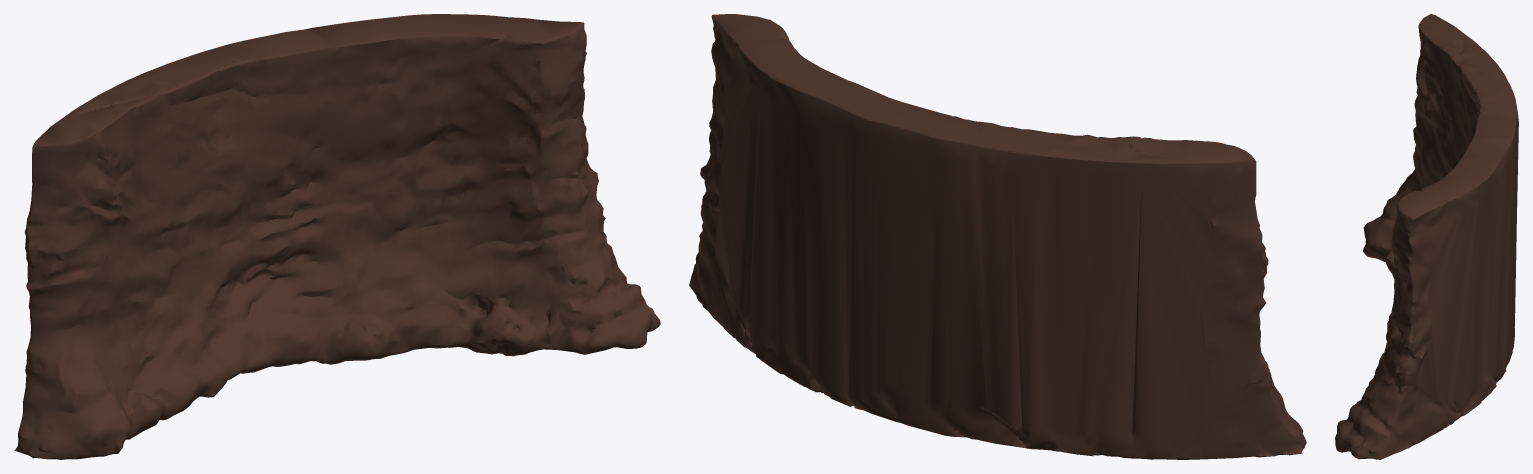
File: Wall_30mOut.fbx
The picture shows the model from 3 angles, left to right: view 1: azimuth 30°, elevation 25°; view 2: azimuth 150°, elevation 25°; view 3: azimuth 270°, elevation 25°; orthographic projection. The views are drawn at different scales.
Visible parts, largest first — view 1: Wall_30mOut; view 2: Wall_30mOut; view 3: Wall_30mOut.
Part boxes in pixels (bbox=[...]): Wall_30mOut: bbox=[14, 14, 660, 459]; Wall_30mOut: bbox=[689, 14, 1306, 459]; Wall_30mOut: bbox=[1335, 14, 1518, 459].
Size of what is drawn, in the model's own units: 3348 by 1576 by 1111.
Materials: 1 (1 with a texture image).
